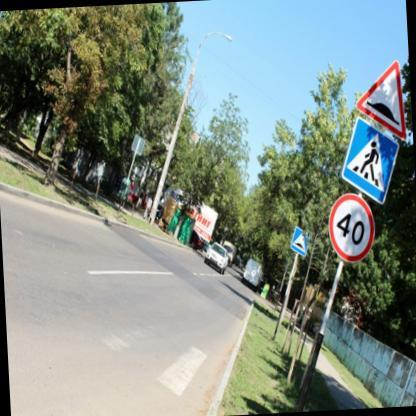obstructed_road_sign: (290, 226, 308, 256)
road_sign: (343, 118, 398, 204), (358, 61, 405, 140), (330, 193, 375, 262)
